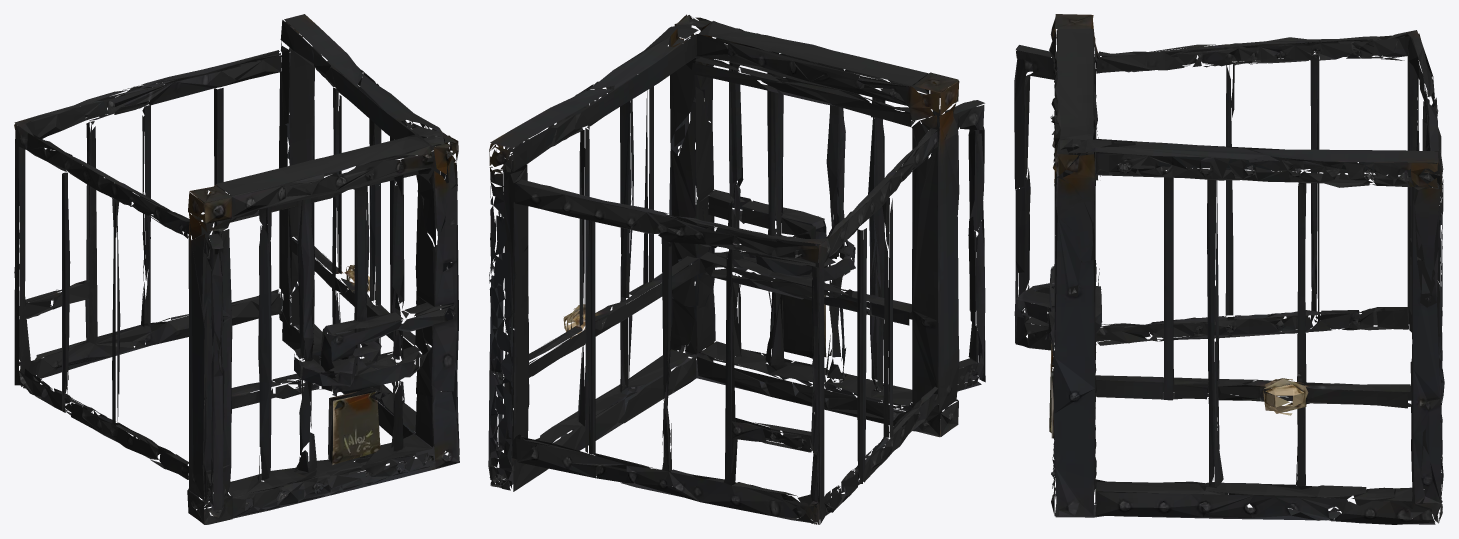
Rendered from beast-cage.glb.
3 views of the same model, side by side, from view 1: azimuth 30°, elevation 25°; view 2: azimuth 150°, elevation 25°; view 3: azimuth 270°, elevation 25° (orthographic). The views are drawn at different scales.
Visible parts, largest first — view 1: material; view 2: material; view 3: material.
Part boxes in pixels (<box>): material: <box>14,14,459,524</box>; material: <box>488,14,985,524</box>; material: <box>1014,14,1444,524</box>.
Size of the model in its own units: 0.8971 by 0.92 by 0.9747.
Materials: 1 (1 with a texture image).
